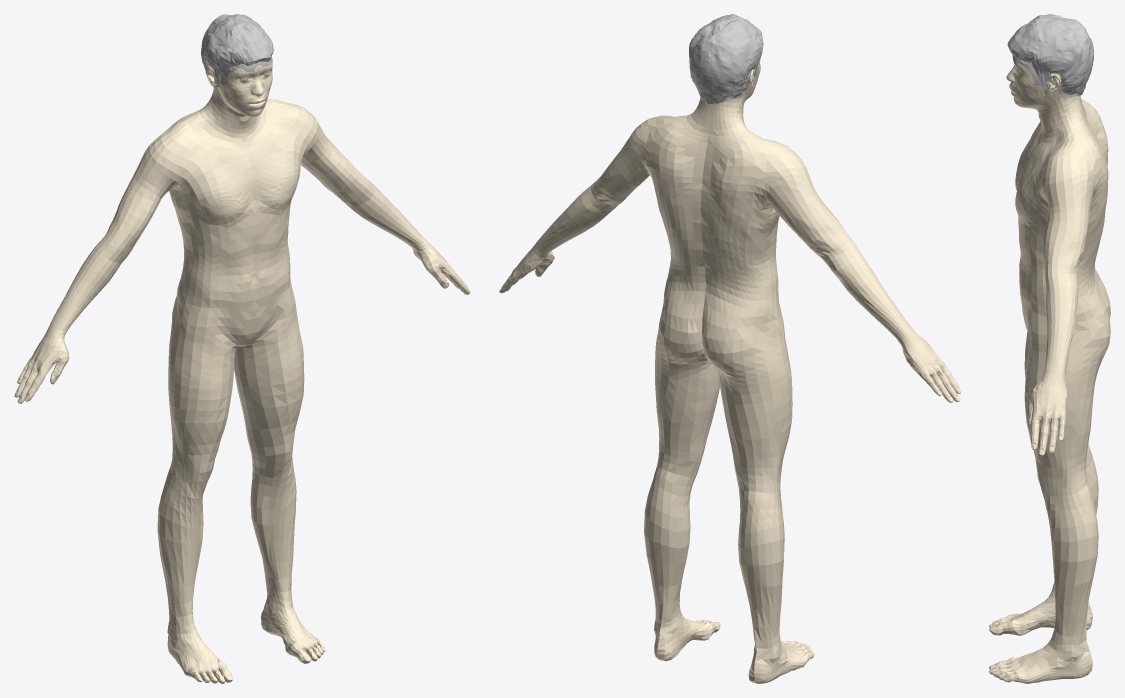
The model's file is Body.obj.
The picture shows the model from 3 angles, left to right: view 1: azimuth 30°, elevation 25°; view 2: azimuth 150°, elevation 25°; view 3: azimuth 270°, elevation 25°; orthographic projection.
Visible parts, largest first — view 1: base.obj, short02.obj; view 2: base.obj, short02.obj; view 3: base.obj, short02.obj.
Part boxes in pixels (x1,y1,x2,y2): base.obj: [14, 62, 470, 683]; short02.obj: [201, 14, 273, 88]; base.obj: [499, 59, 960, 683]; short02.obj: [689, 14, 763, 104]; base.obj: [989, 57, 1110, 683]; short02.obj: [1007, 14, 1093, 97].
Size of the model in its own units: 13.51 by 18.14 by 3.15.
